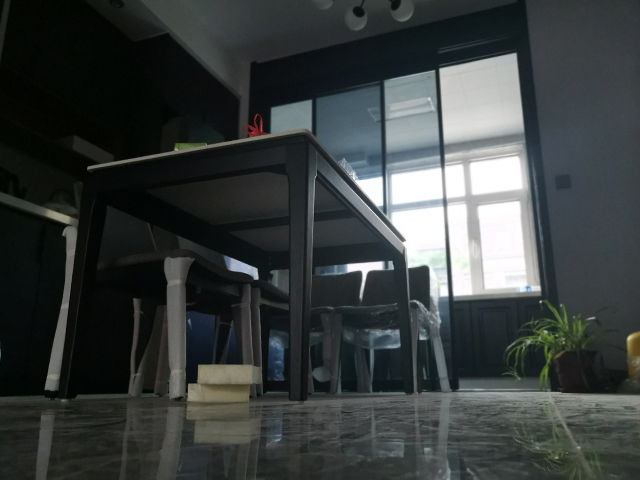cabinet: (454, 288, 554, 387)
stool: (350, 264, 448, 394)
table: (56, 126, 420, 403), (44, 142, 252, 400)
